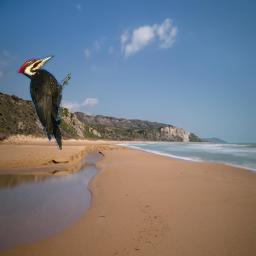Woodpecker: (15, 55, 71, 150)
